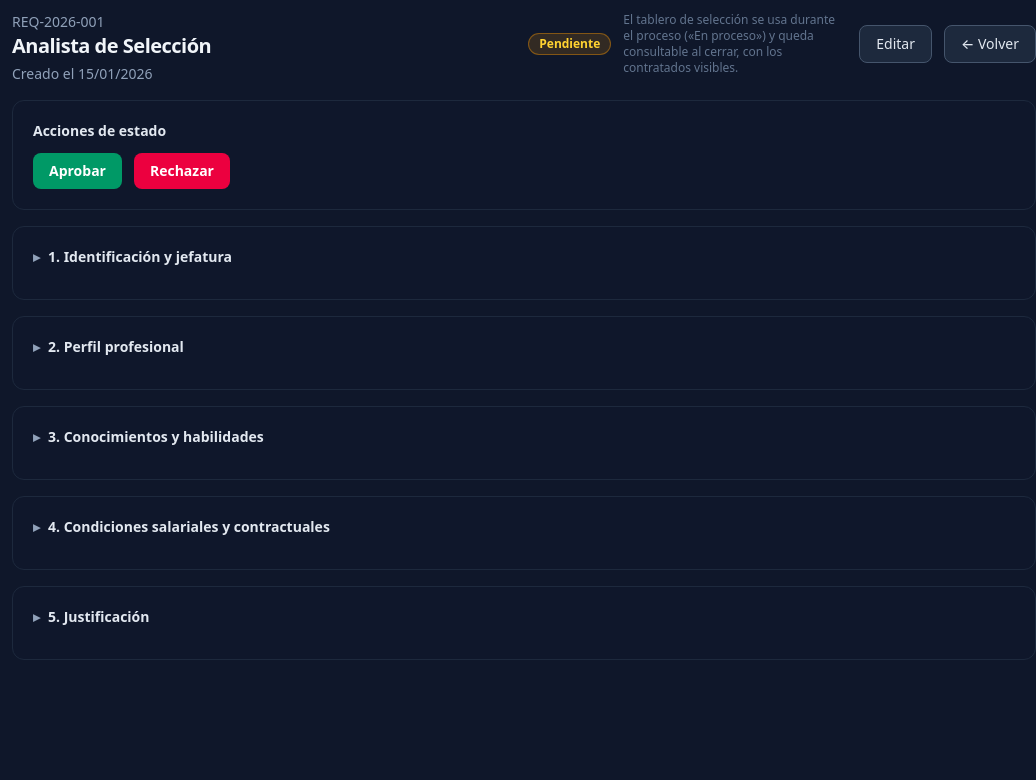
transiciones de estado del requerimiento (botones según estado y rol) › rechazar pide el motivo obligatorio y lo envía en el cuerpo del POST
Click the button "Rechazar".
click(182, 171)  # box top-left (134, 153), bottom-right (230, 189)
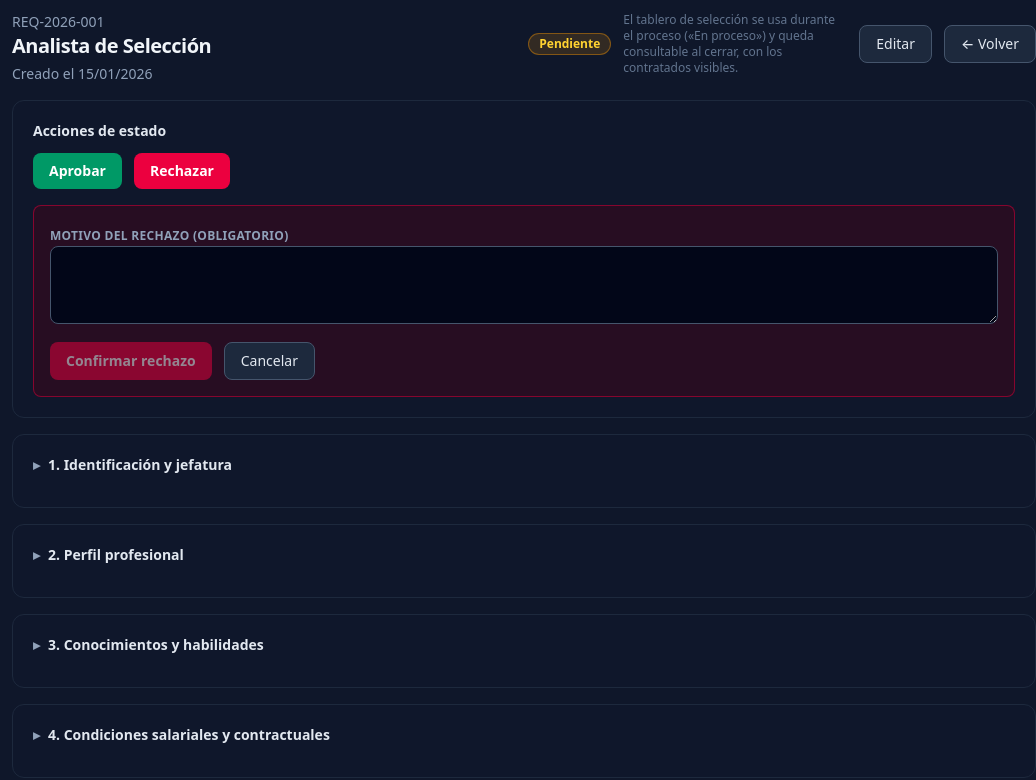
Expected: the button "Confirmar rechazo" is disabled, top-left (50, 342), bottom-right (212, 380)
Expected: the text box labelled "Motivo del rechazo (obligatorio)" is shown
Type "No hay presupuesto aprobado" into the text box labelled "Motivo del rechazo (obligatorio)".
click(524, 285); type("No hay presupuesto aprobado")  # box top-left (50, 246), bottom-right (998, 324)
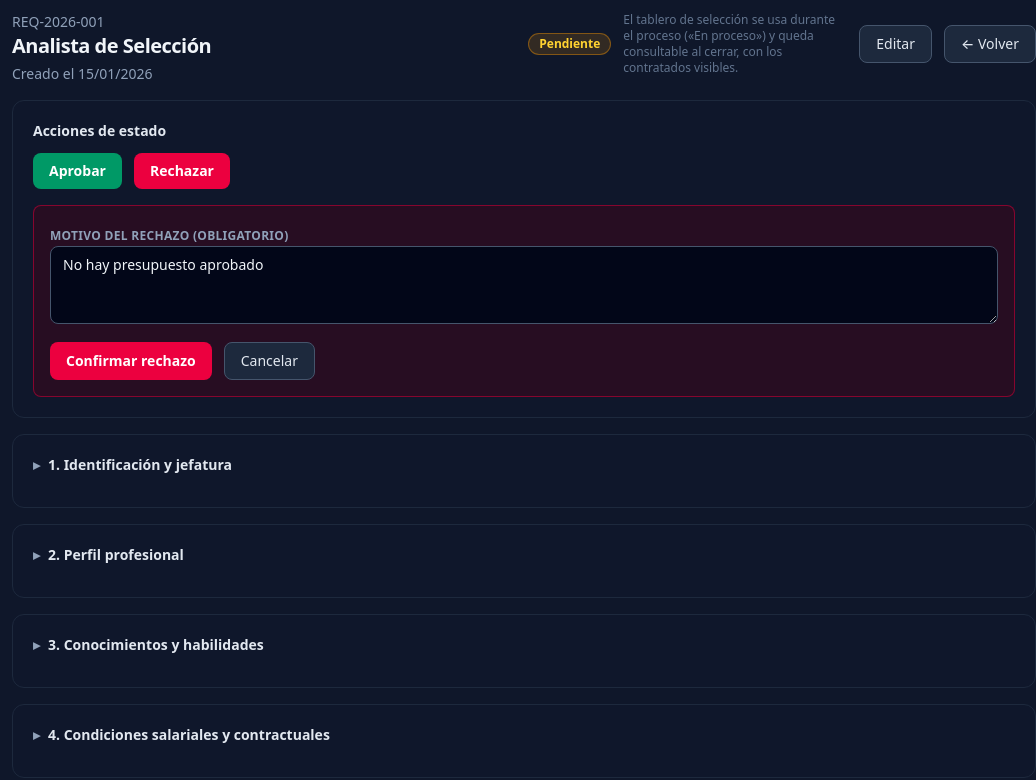
Expected: the button "Confirmar rechazo" is enabled
Click the button "Confirmar rechazo".
click(131, 361)  # box top-left (50, 342), bottom-right (212, 380)
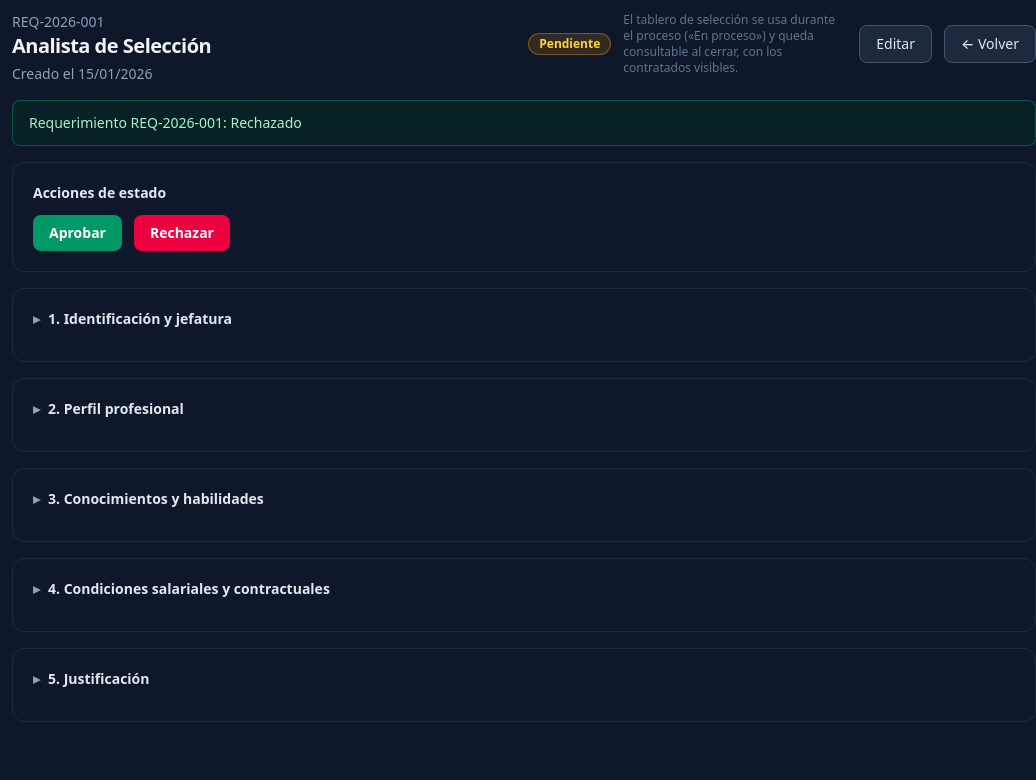
Expected: the message shows "Rechazado", top-left (29, 113), bottom-right (302, 132)
